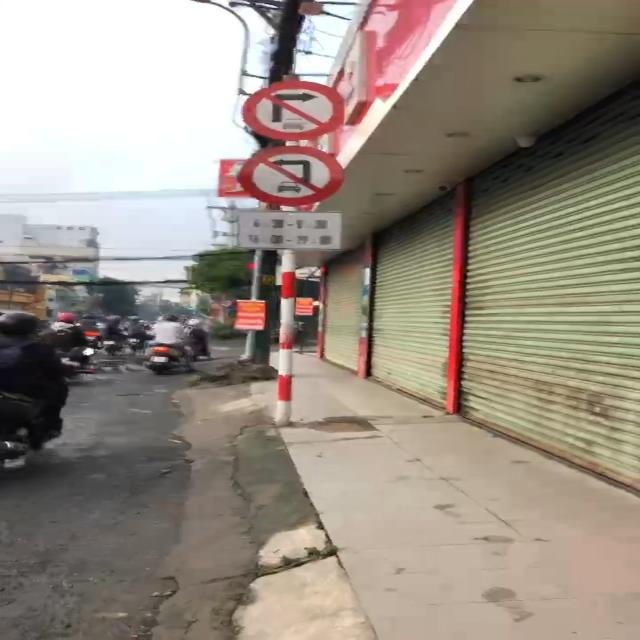Bien bao cam xe o to re phai: (238, 72, 354, 141)
Bien bao cam xe o to re trai: (238, 142, 350, 208)
